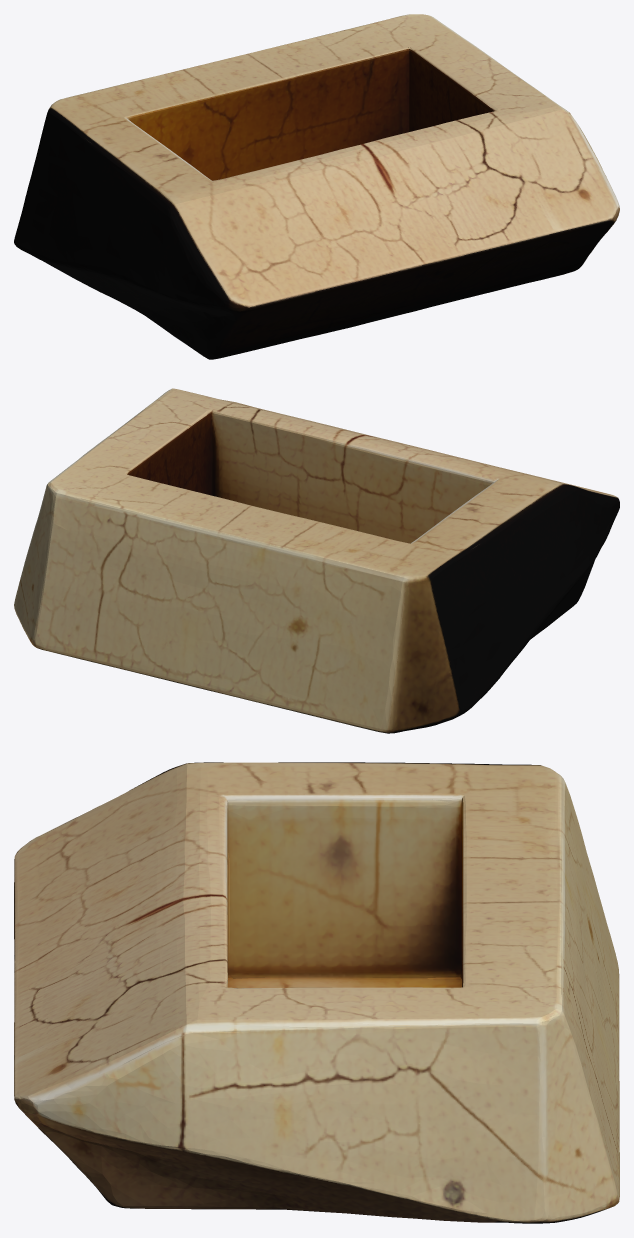
The model's file is cork-playing-card-holder-futuristic.jpeg.glb.
3 views of the same model, one above another, from view 1: azimuth 30°, elevation 25°; view 2: azimuth 150°, elevation 25°; view 3: azimuth 270°, elevation 25° (orthographic). The views are drawn at different scales.
Parts seen in each view (by area): view 1: world; view 2: world; view 3: world.
Boxes of the visible parts, x1=… form: world: x1=14, y1=14, x2=619, y2=359; world: x1=14, y1=388, x2=619, y2=733; world: x1=14, y1=762, x2=619, y2=1223.
Size of the model in its own units: 0.999 by 0.302 by 0.8427.
1 material, 1 textured.
